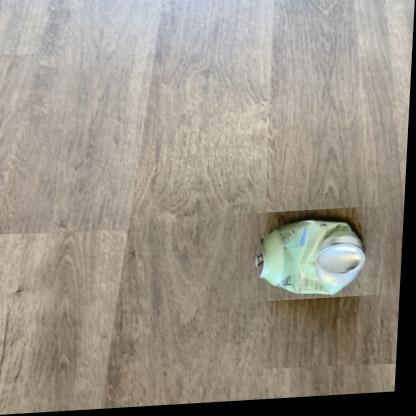trash: (260, 220, 364, 294)
